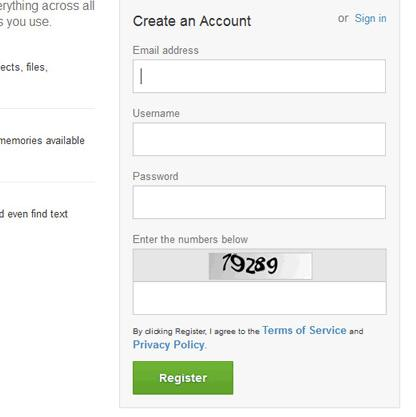button: (132, 360, 233, 395)
field: (129, 58, 387, 94), (133, 280, 387, 315), (131, 122, 387, 156), (131, 185, 386, 219)
field_with_label: (128, 45, 390, 96), (129, 108, 390, 159), (129, 171, 388, 221)
